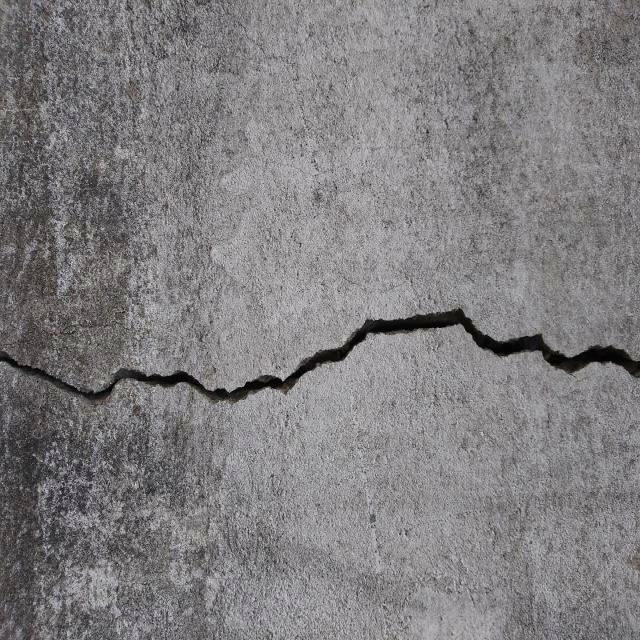SurfaceCrack: (0, 282, 639, 440)
